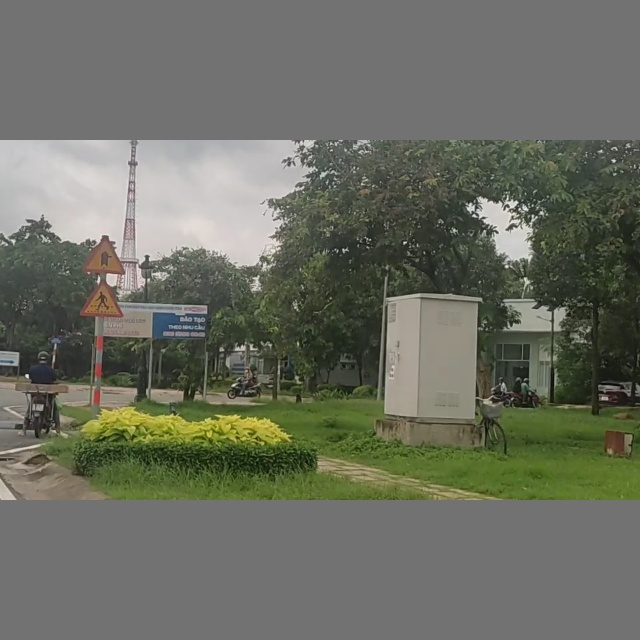W.207: (86, 235, 125, 275)
W.224: (80, 280, 125, 319)
